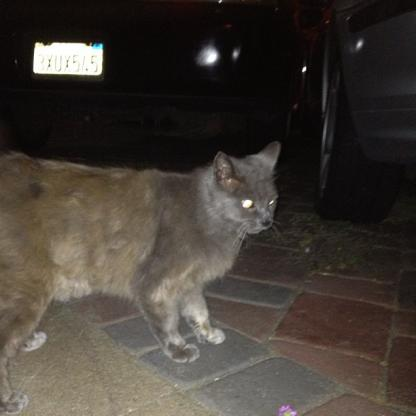Target: (0, 135, 283, 411)
